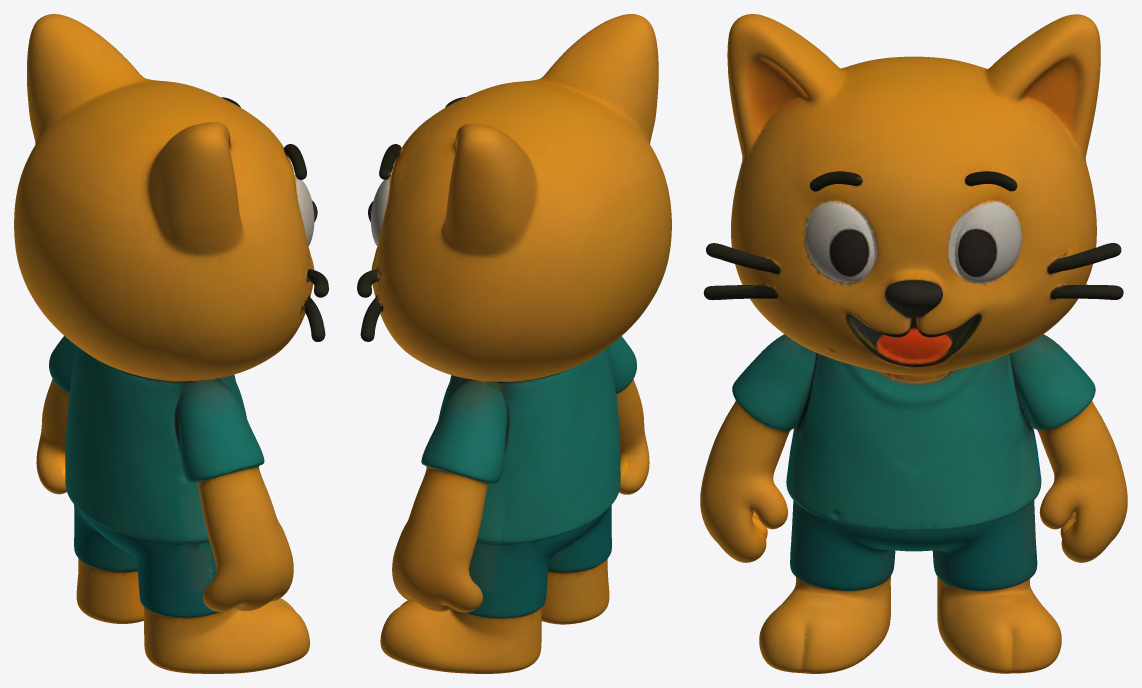
Rendered from treco.glb.
3 renders of one model, left to right at view 1: azimuth 30°, elevation 25°; view 2: azimuth 150°, elevation 25°; view 3: azimuth 270°, elevation 25°, orthographic. The views are drawn at different scales.
Visible parts, largest first — view 1: tripo_node_16de5c60-a3d3-4450-8050-6b9369dee0b5; view 2: tripo_node_16de5c60-a3d3-4450-8050-6b9369dee0b5; view 3: tripo_node_16de5c60-a3d3-4450-8050-6b9369dee0b5.
Boxes of the visible parts, x1,y1,x2,y2 form: tripo_node_16de5c60-a3d3-4450-8050-6b9369dee0b5: (14,14,328,673); tripo_node_16de5c60-a3d3-4450-8050-6b9369dee0b5: (357,14,671,673); tripo_node_16de5c60-a3d3-4450-8050-6b9369dee0b5: (700,14,1127,673).
Bounding box in the file's own units: 0.4989 × 1 × 0.643.
Materials: 1 (1 with a texture image).
